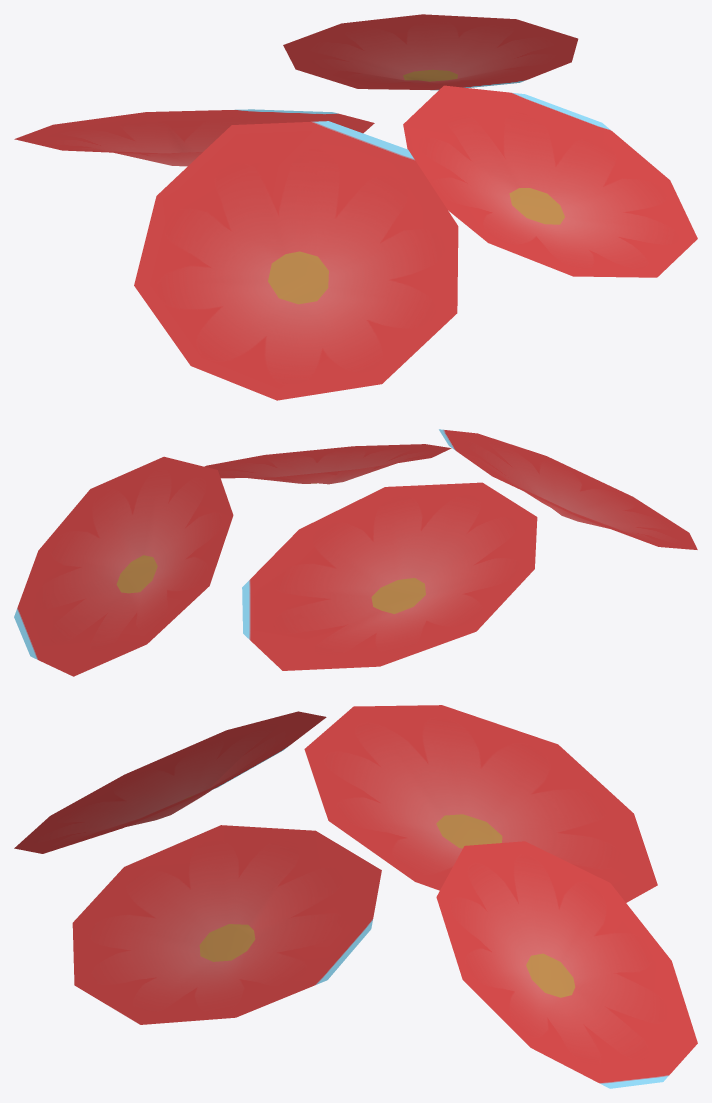
File: SM_Red_Flower.fbx
3 views of the same model, one above another, from view 1: azimuth 30°, elevation 25°; view 2: azimuth 150°, elevation 25°; view 3: azimuth 270°, elevation 25° (orthographic). The views are drawn at different scales.
Visible parts, largest first — view 1: SM_Red_Flower_LOD0; view 2: SM_Red_Flower_LOD0; view 3: SM_Red_Flower_LOD0.
Part boxes in pixels (x1,y1,x2,y2): SM_Red_Flower_LOD0: [14, 14, 697, 400]; SM_Red_Flower_LOD0: [14, 429, 697, 676]; SM_Red_Flower_LOD0: [14, 705, 697, 1088].
Size of the model in its own units: 28.47 by 29.09 by 8.6.
